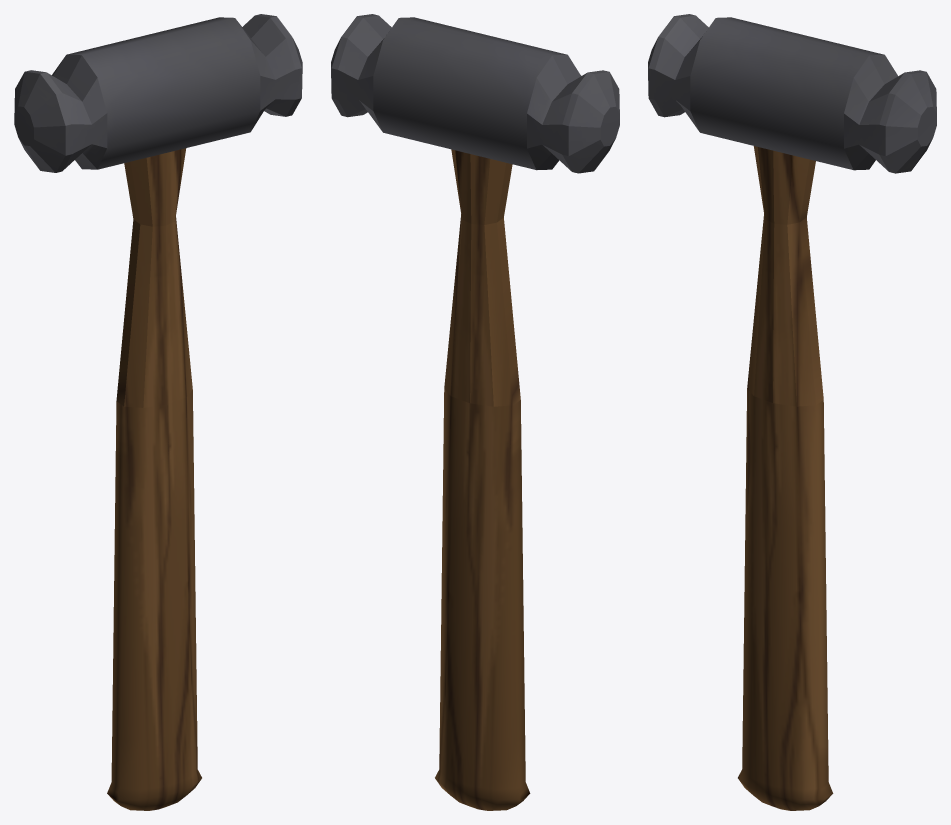
The model's file is Hammer2.fbx.
3 views of the same model, side by side, from view 1: azimuth 30°, elevation 25°; view 2: azimuth 150°, elevation 25°; view 3: azimuth 330°, elevation 25° (orthographic).
Parts seen in each view (by area): view 1: Hammer_4; view 2: Hammer_4; view 3: Hammer_4.
Boxes of the visible parts, <box> form: Hammer_4: <box>14,14,302,810</box>; Hammer_4: <box>331,14,619,810</box>; Hammer_4: <box>648,14,936,810</box>.
Bounding box in the file's own units: 14.29 × 39.08 × 4.65.
Materials: 1 (1 with a texture image).
